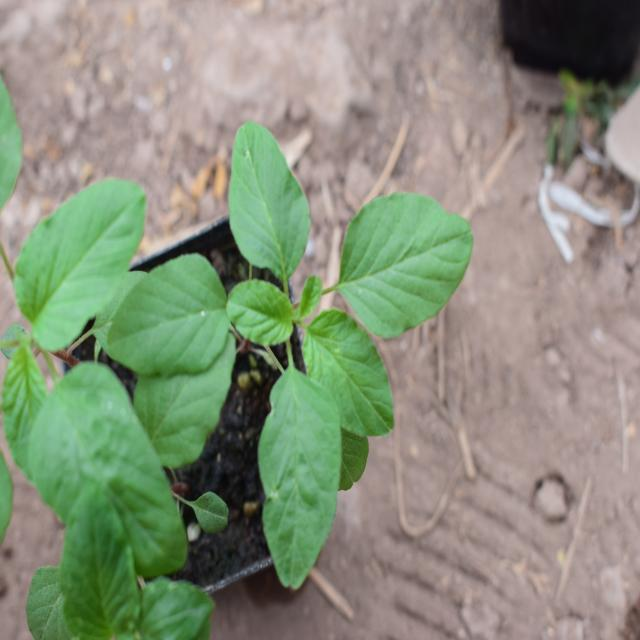pigweed: (189, 134, 445, 539)
